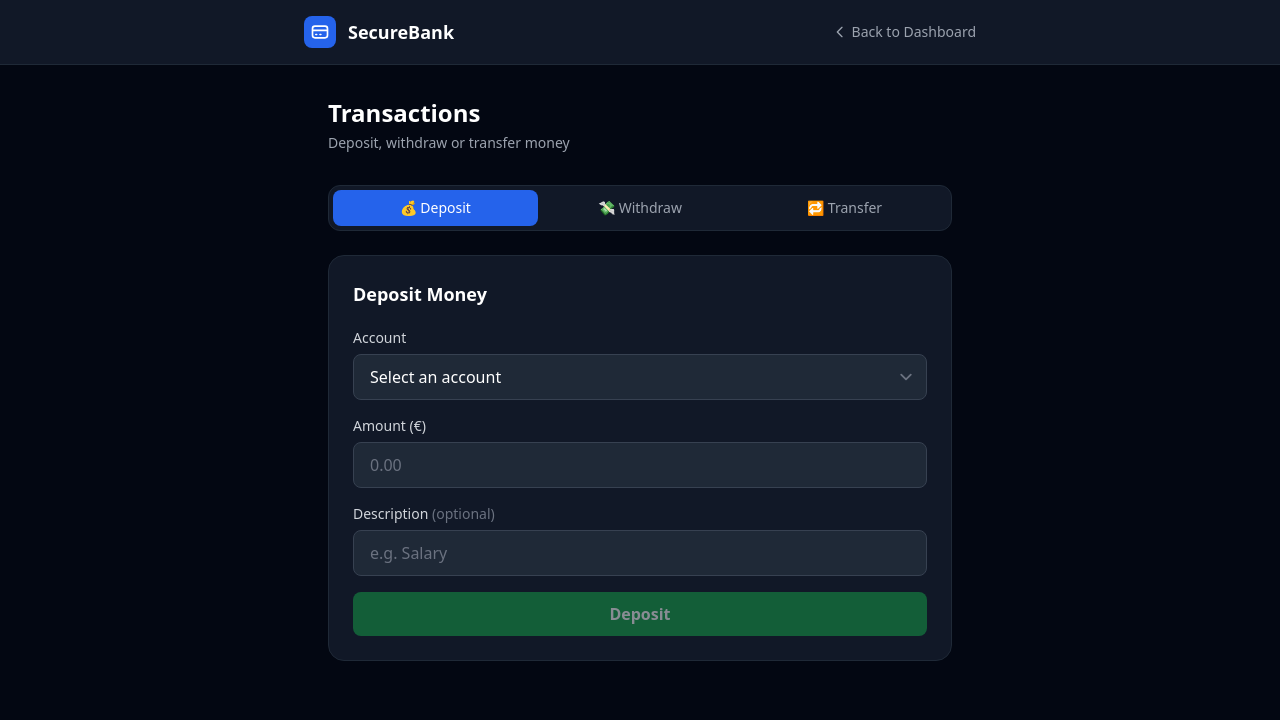
Transfer page › deposits successfully and shows a success message
Select "CHECKING — ABCDEF1234567890 (€1,500.00)" in the dropdown with test id "deposit-account-select" at [640, 377], box [353,354,927,400]
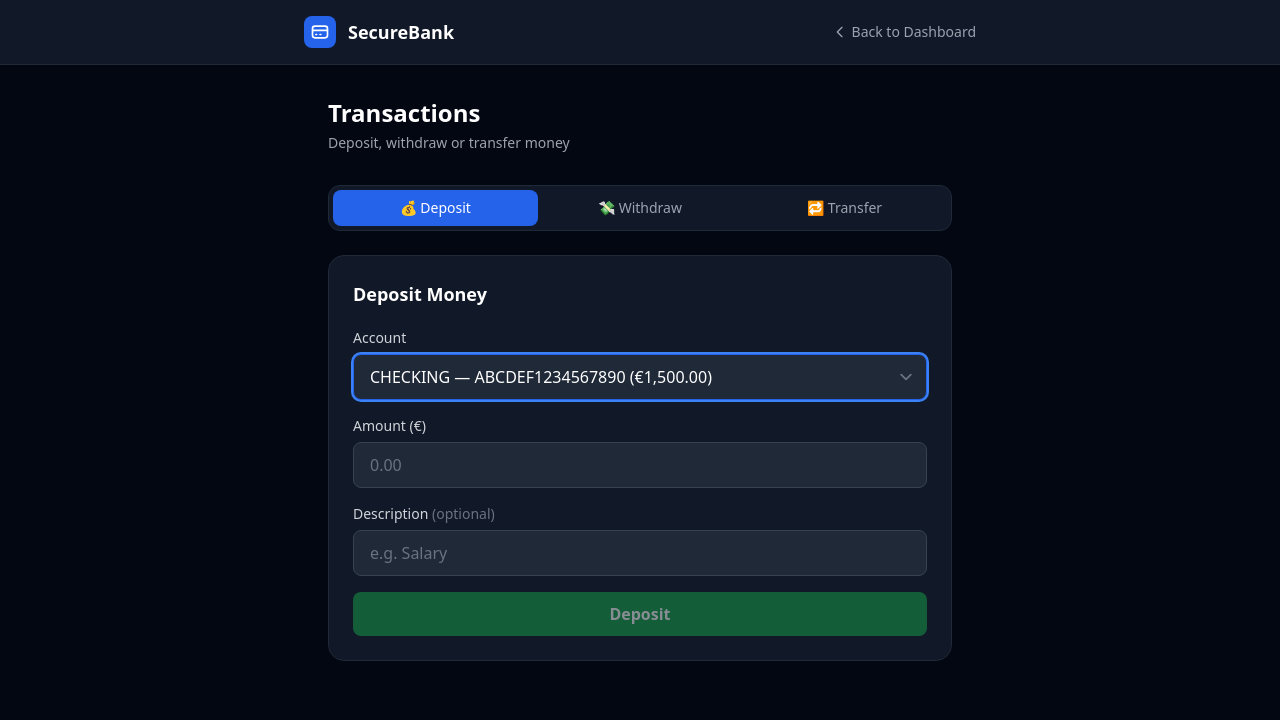
Type "250" into the number field with test id "deposit-amount-input" at [640, 465], box [353,442,927,488]
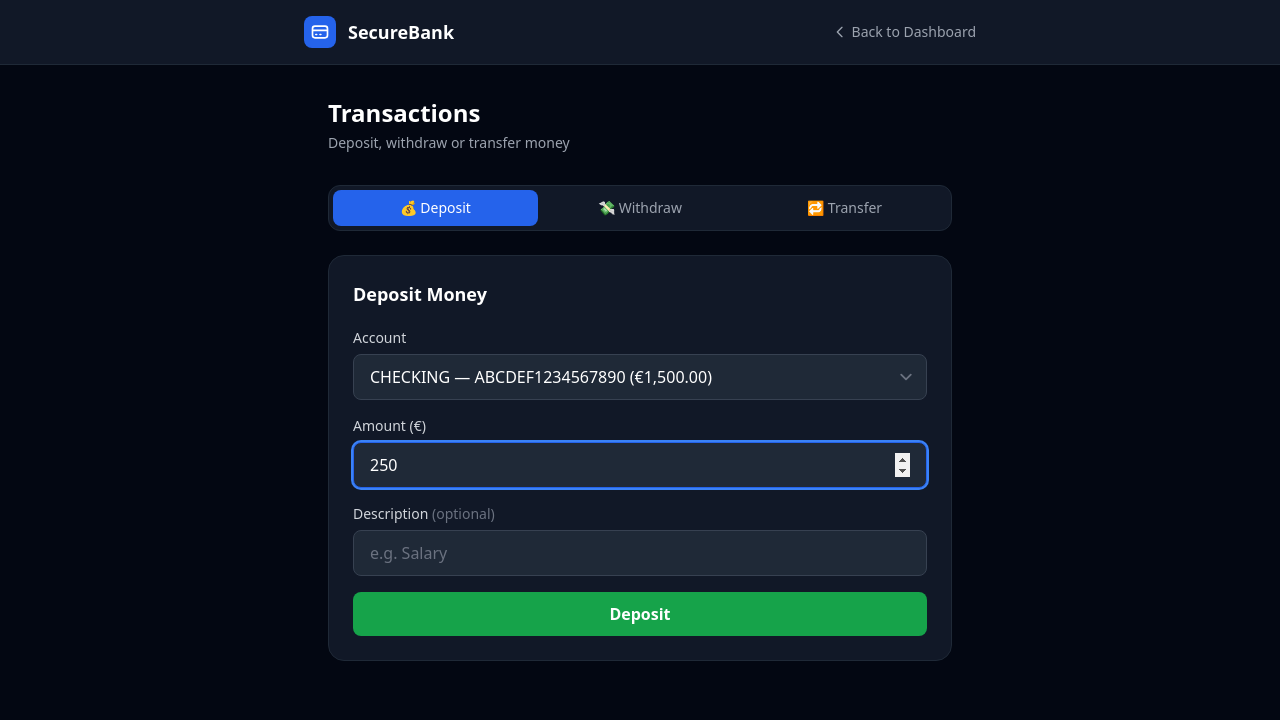
Click the button with test id "deposit-submit" at [640, 614], box [353,592,927,636]
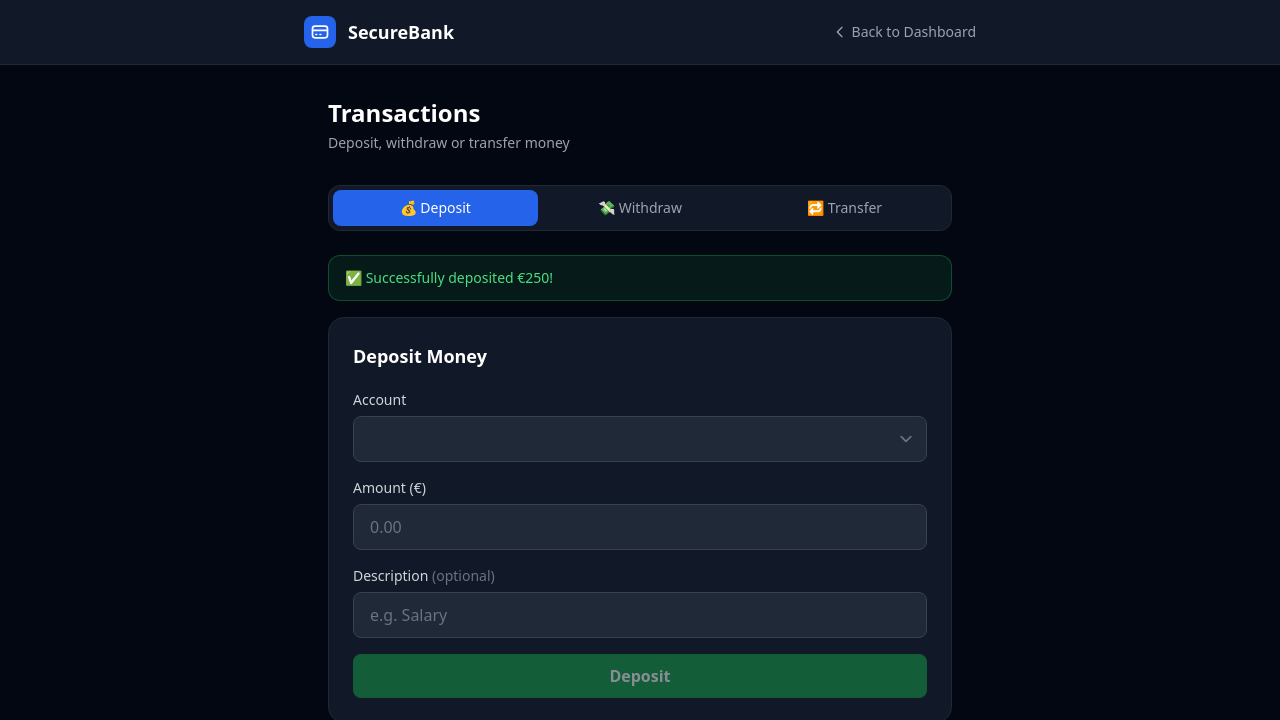
expect the text with test id "success-message" shows "250": met, box [328,255,952,301]
